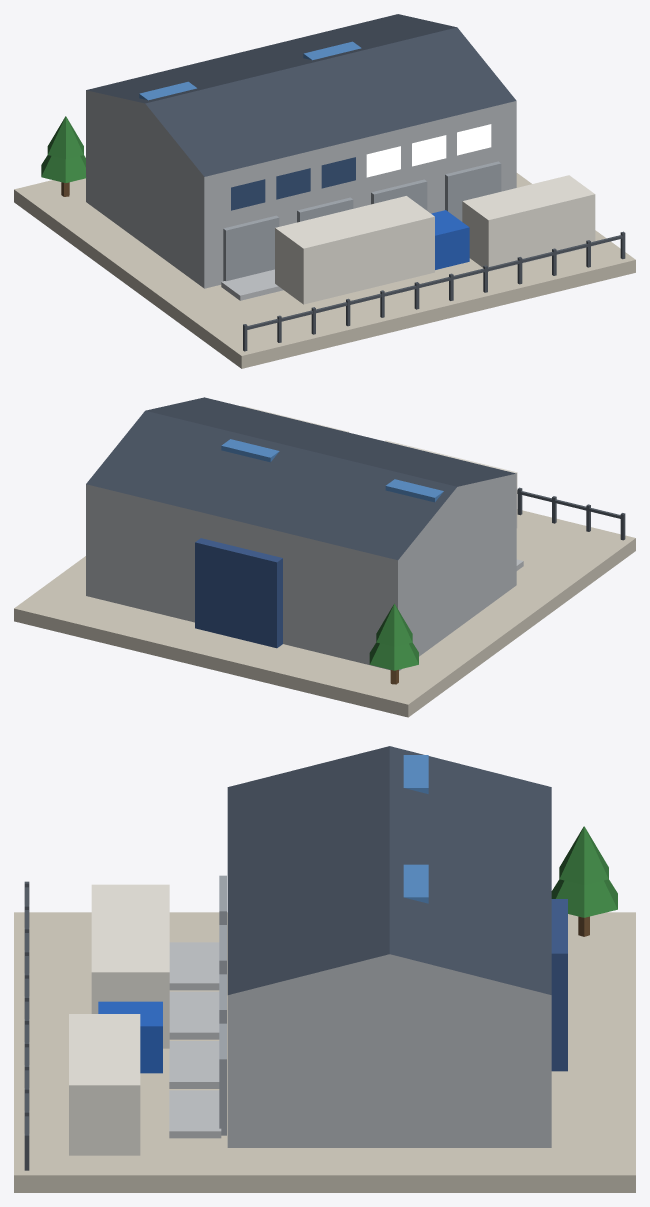
The picture shows the model from 3 angles, top to bottom: view 1: azimuth 30°, elevation 25°; view 2: azimuth 150°, elevation 25°; view 3: azimuth 270°, elevation 25°; orthographic projection. The views are drawn at different scales.
Parts seen in each view (by area): view 1: b36; view 2: b36; view 3: b36.
Part boxes in pixels (x1=…): b36: x1=14, y1=14, x2=635, y2=368; b36: x1=14, y1=397, x2=635, y2=717; b36: x1=14, y1=746, x2=635, y2=1192.
Size of the model in its own units: 0.96 by 0.36 by 0.96.
